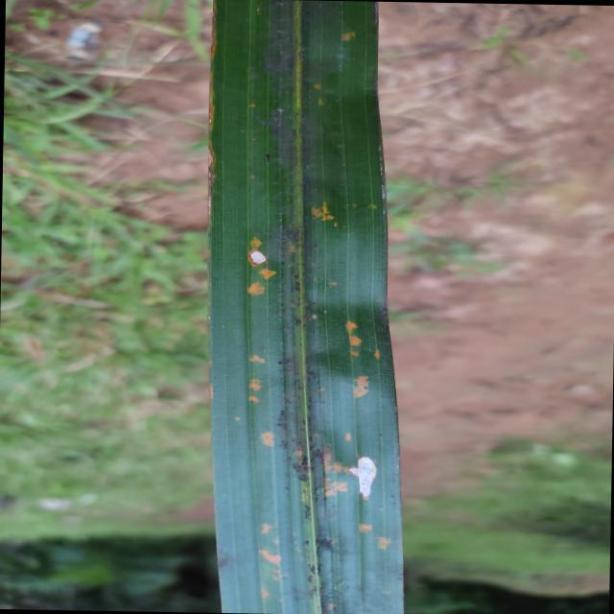Kalium: (206, 3, 406, 614)
